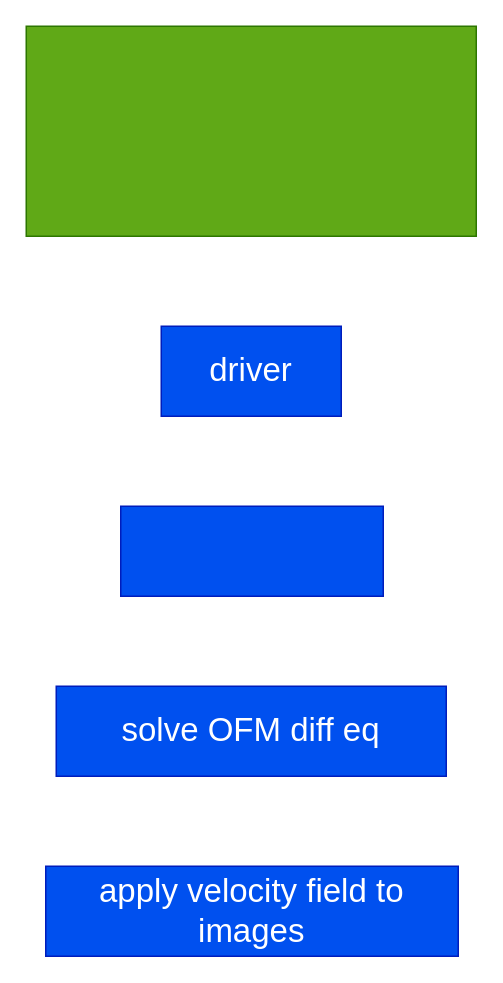
Image size: 503x983. Some labels were removed from this diagram. The box of each missing label's shape, as (x1, y1, x2, y2) in pixels:
input images: (25, 25, 476, 236)
preprocess images: (119, 505, 383, 596)
